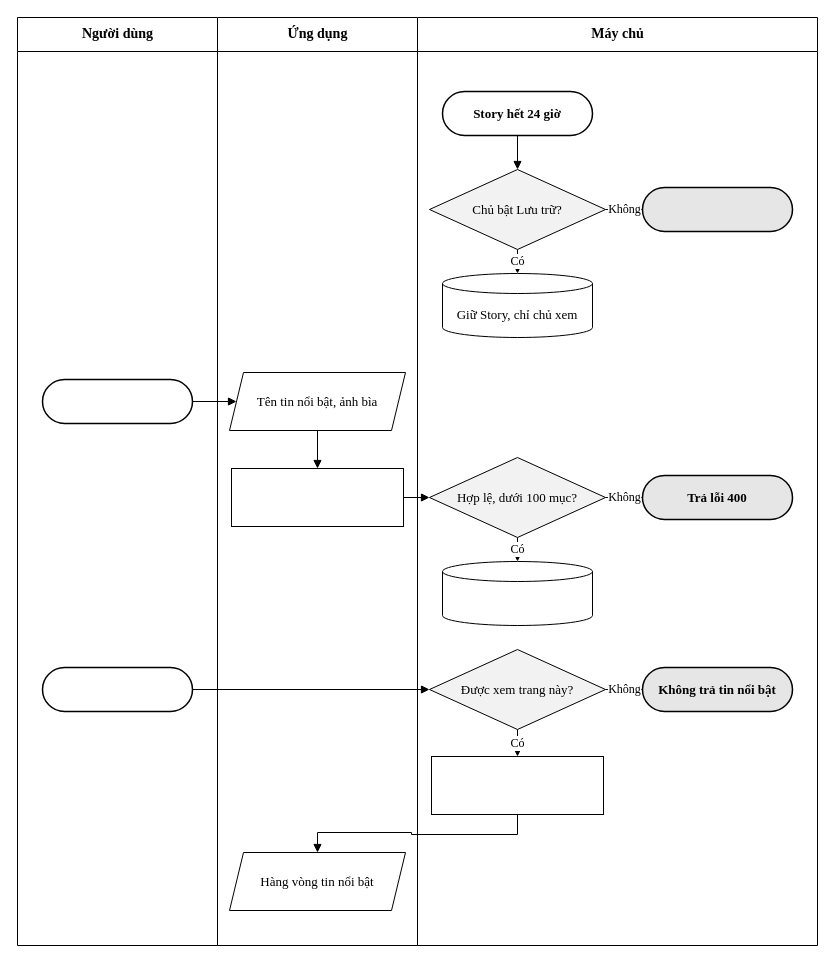
This 835x963 diagram has some shape labels left out. Each missing label, with the centre of its shape:
Bỏ mục Bạn thân nếu không có tên: (517,785)
Ghi Highlight, HighlightItem: (517,593)
Gửi POST /highlights: (317,497)
Mở Lưu trữ, chọn story: (117,401)
Người khác mở trang cá nhân: (117,689)
Tác vụ dọn: xóa tệp, xóa dòng: (717,209)
